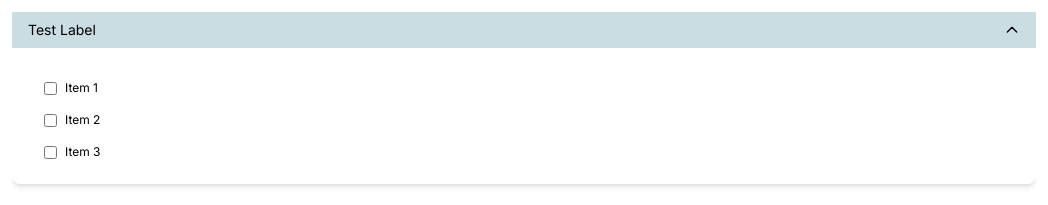
it: Dropdown › displays multiple selected items correctly
The image size is (1048, 205).
Click the text "Item 1".
click(82, 88)  # box [65,80,98,96]
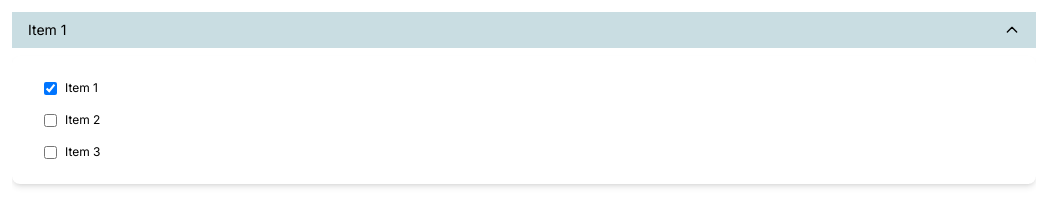
Click the text "Item 2".
click(83, 120)  # box [65,112,100,128]
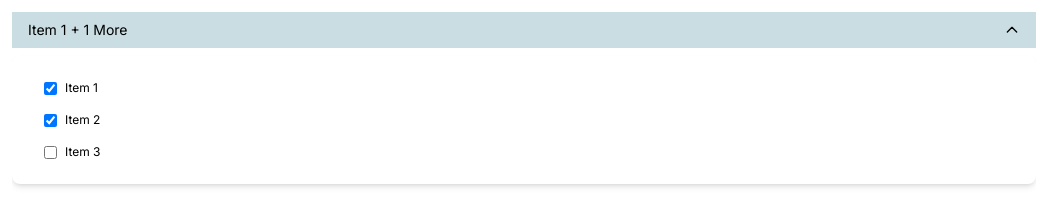
Check: the text "Item 1 + 1 More" is shown, box [28,20,128,40]
